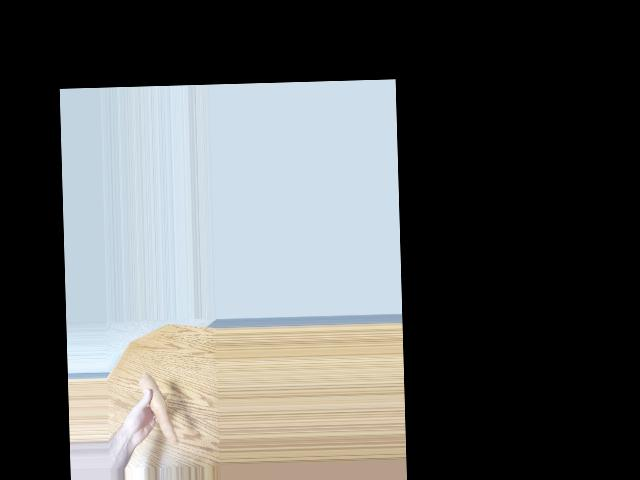sweet_potato: (147, 369, 173, 446)
